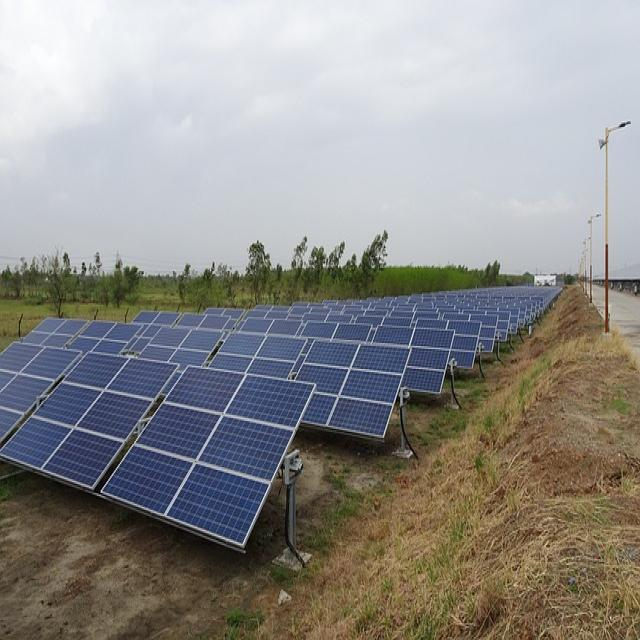clean-solar-panel: (1, 352, 315, 549), (352, 344, 410, 375)
